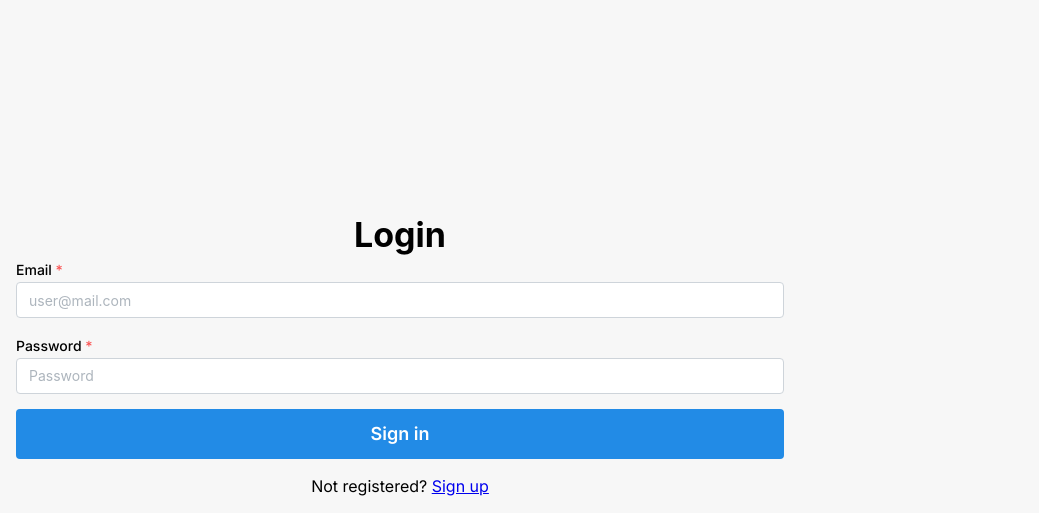
Test case: Login Page › should show a banner with error message when password or emails is invalid
Type "test@example.com" into the field named "email" at (400, 300), box [16,282,784,318]
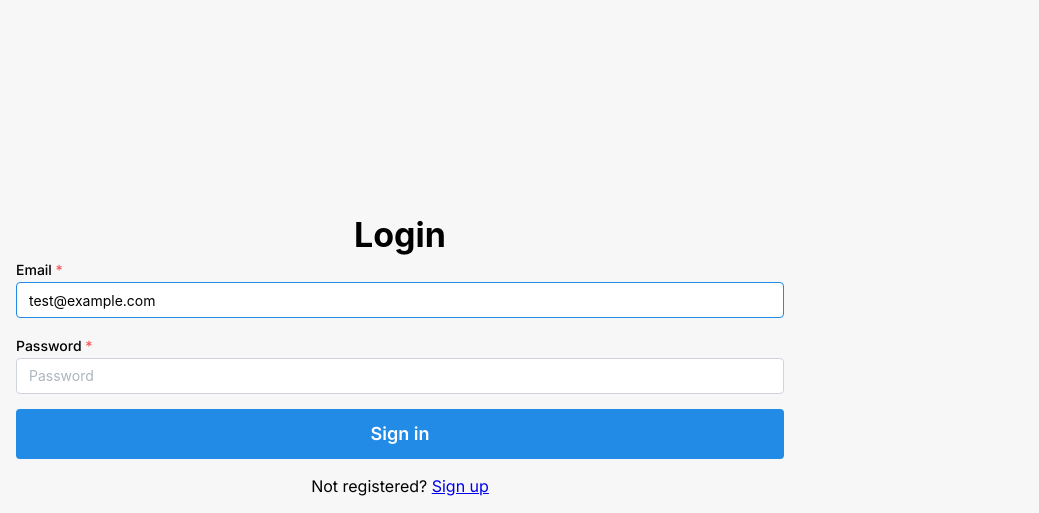
Type "password123" into the password field named "password" at (400, 376), box [16,358,784,394]
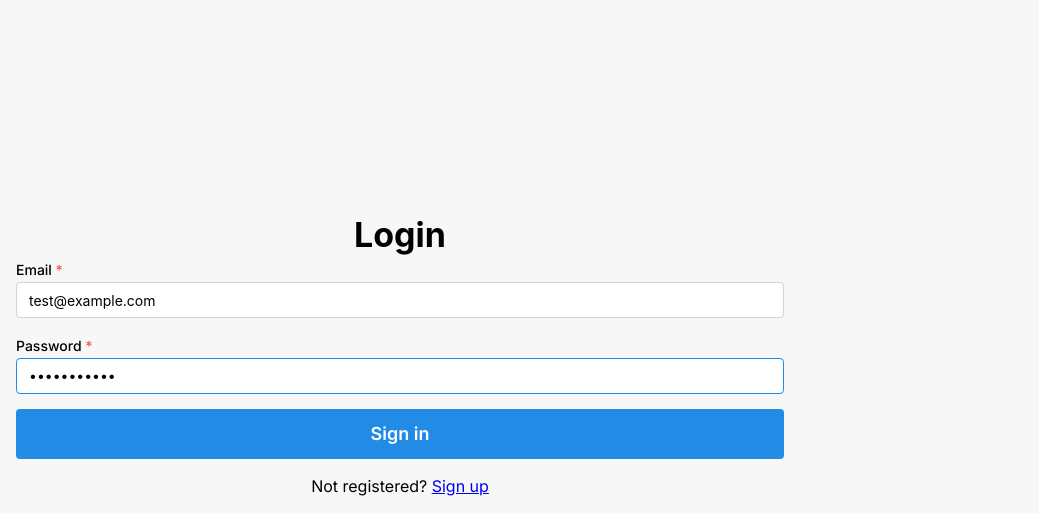
Click the submit button at (400, 434), box [16,409,784,459]
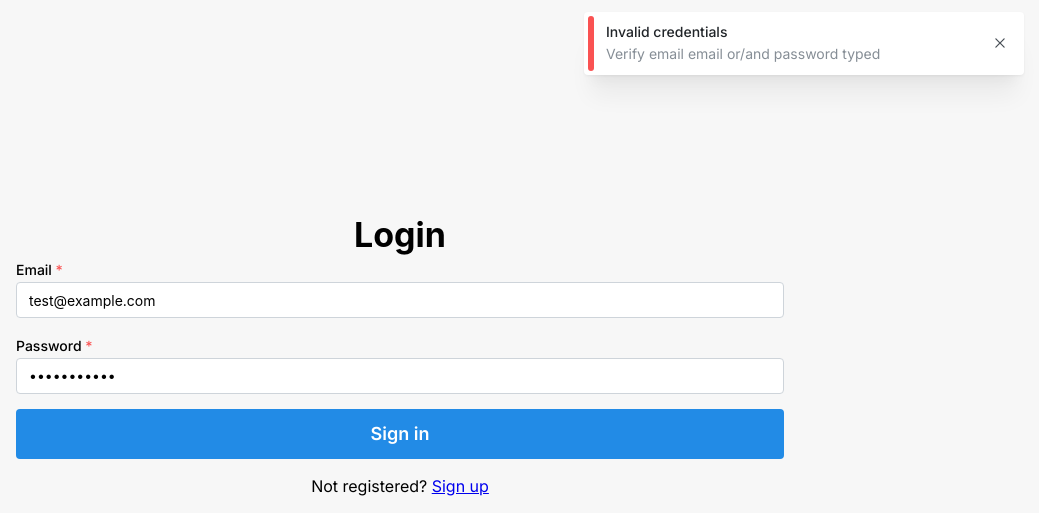
Result: the text "Invalid credentials" is shown at [606,23,727,40]
Result: the text "Verify email email or/and password typed" is shown at [606,45,880,62]
